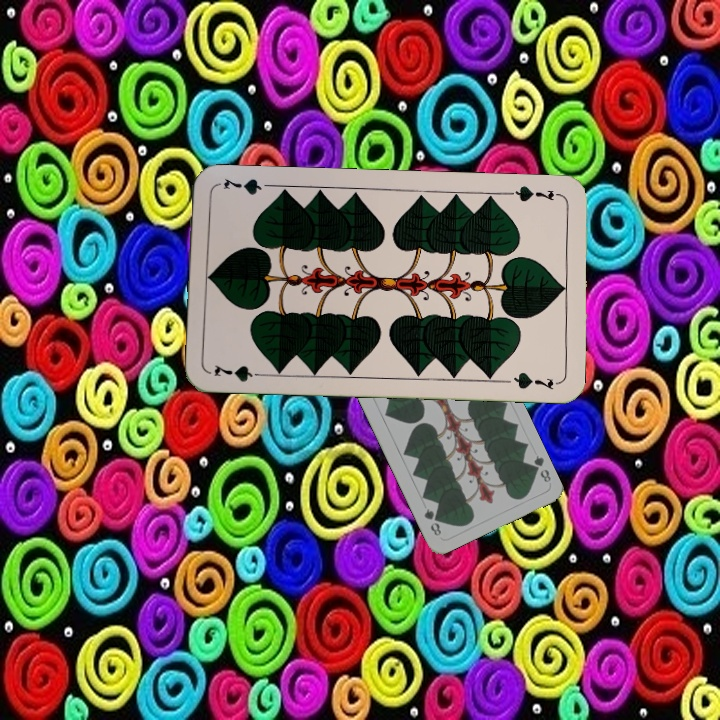G7: (210, 360, 269, 384), (505, 182, 564, 204)
G8: (526, 451, 554, 485)
